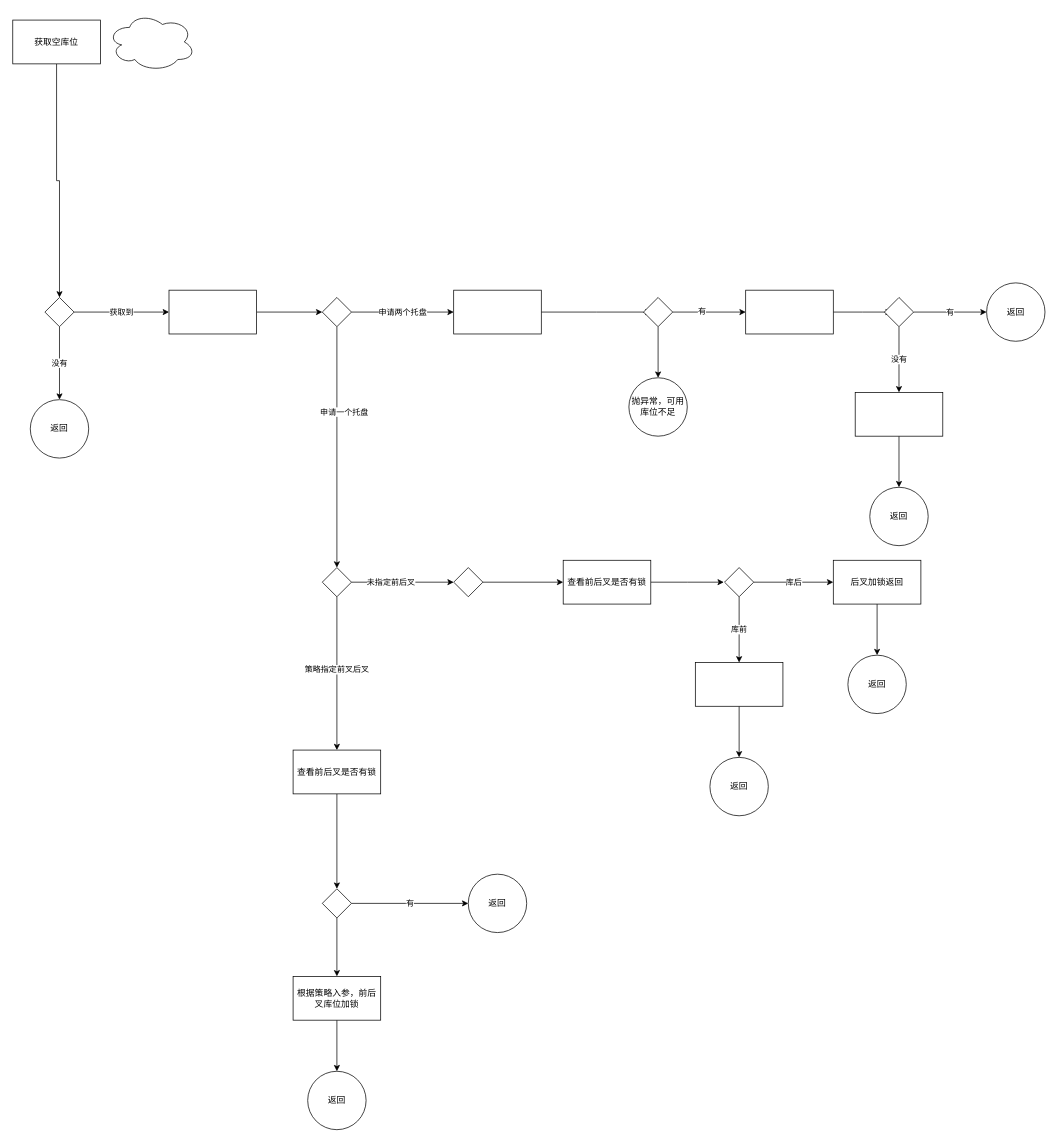
Some shapes in this 1058 by 1142 pixel diagram are drawn without their labels. Each missing label, with the centre of its shape:
前叉加锁返回: point 739,684
库位加锁: point 898,414
找到第一个可分配库位: point 212,311
查看是否有锁: point 789,311
校验可用是否两个可用库位: point 497,311
获取在行维度上相邻两空库位容器状态都是空的: point 151,41
